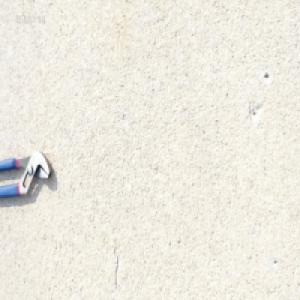Pliers: (0, 149, 52, 201)
